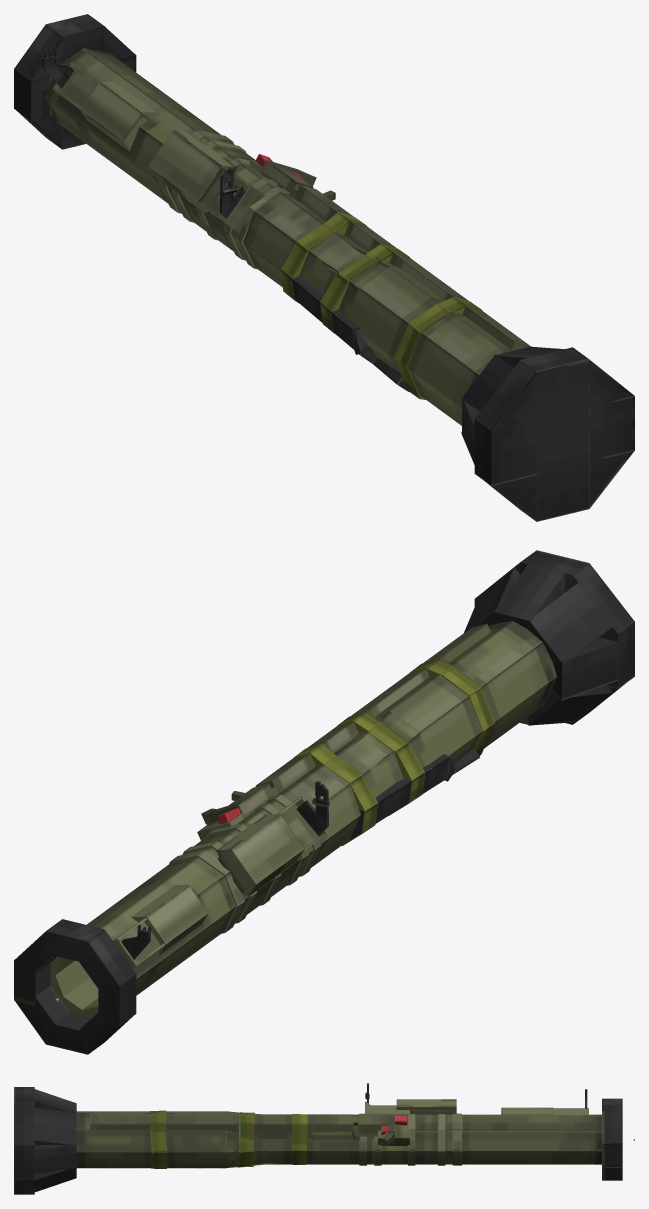
3 views of the same model, one above another, from view 1: azimuth 30°, elevation 25°; view 2: azimuth 150°, elevation 25°; view 3: azimuth 270°, elevation 25° (orthographic). The views are drawn at different scales.
Parts seen in each view (by area): view 1: gun, cover2, cover, bone, sight; view 2: gun, cover2, cover, bone, sight; view 3: gun, cover2, bone, cover.
Boxes of the visible parts, box(x1,y1,x2,y2) form: gun: box(14, 14, 634, 521); cover2: box(148, 130, 237, 213); cover: box(80, 82, 157, 151); bone: box(52, 61, 265, 232); sight: box(220, 167, 246, 218); gun: box(14, 550, 634, 1054); cover2: box(216, 813, 304, 896); cover: box(131, 885, 208, 955); bone: box(113, 796, 328, 968); sight: box(296, 781, 329, 835); gun: box(14, 1087, 622, 1194); cover2: box(396, 1099, 456, 1114); bone: box(365, 1101, 588, 1114); cover: box(501, 1107, 553, 1114).
Size of the model in its own units: 85.15 by 84.7 by 520.
